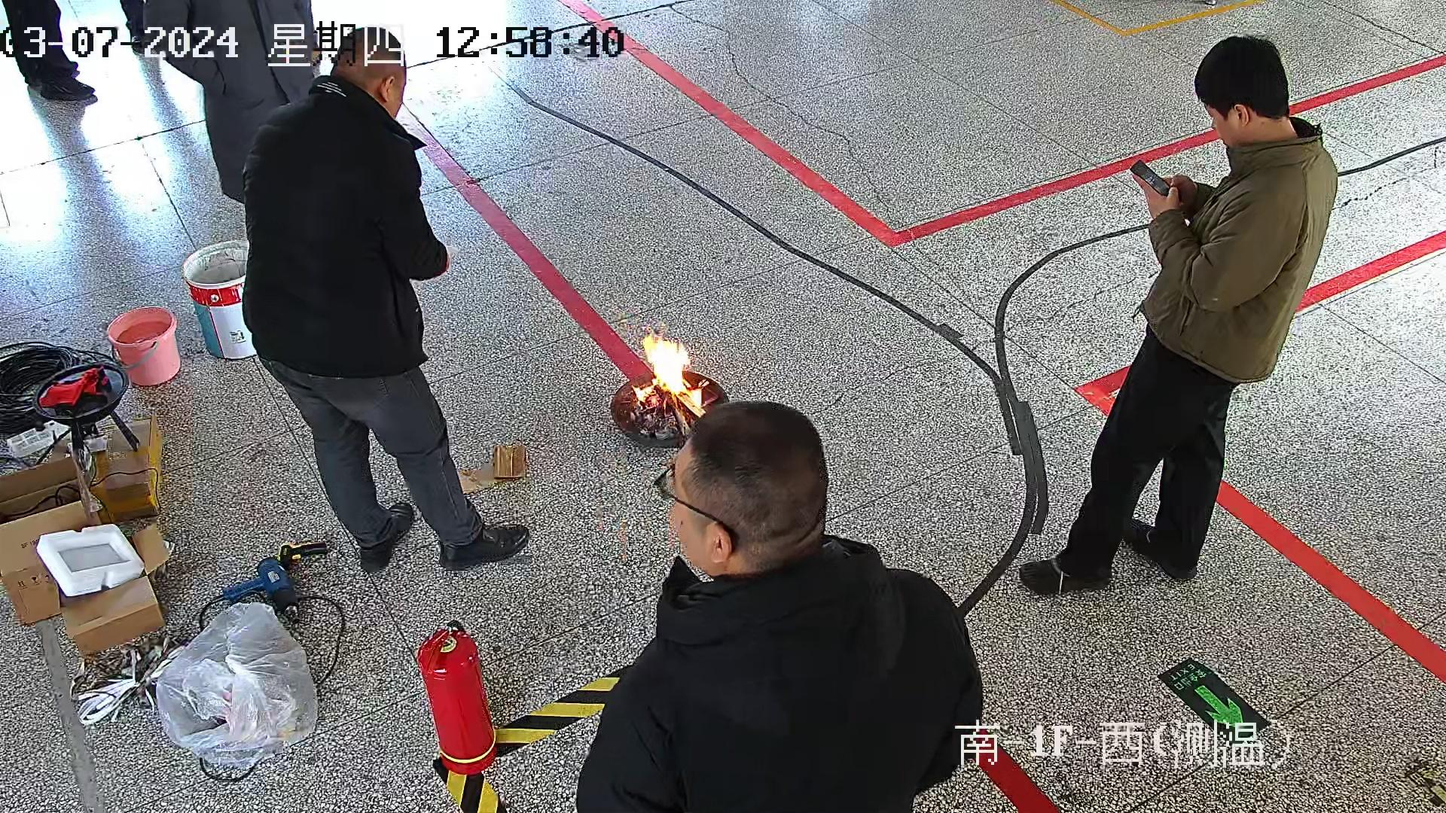fire: (631, 330, 718, 429)
